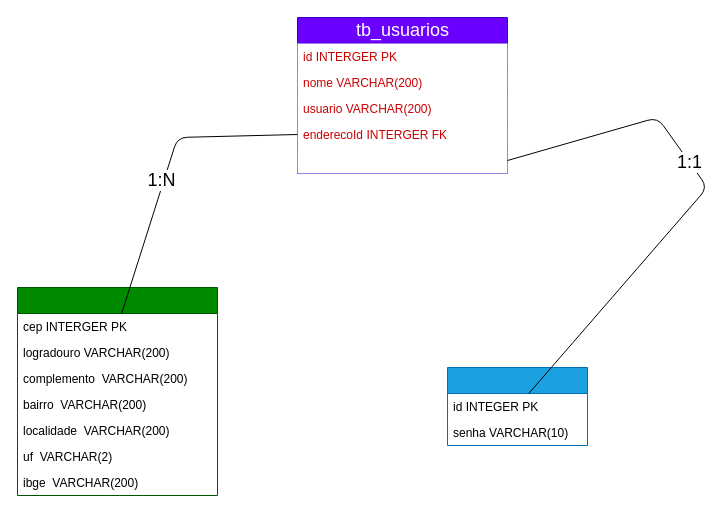
Image size: 726x516. Some labels were removed from this diagram. Here are the shapes that lost their labels. From the top down, the box of each, then its label:
(297, 147, 507, 173): senhaId INTERGER FK
(16, 286, 218, 496): tb_enderecos
(446, 366, 588, 446): tb_senhas
